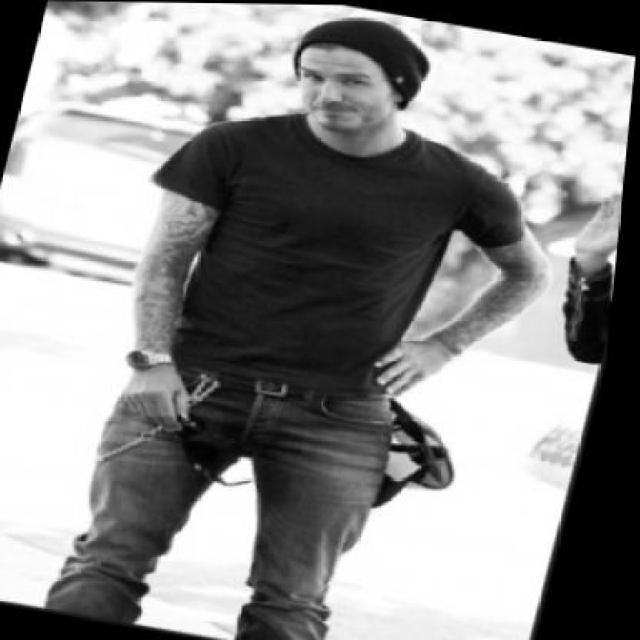hat: (280, 4, 446, 111)
